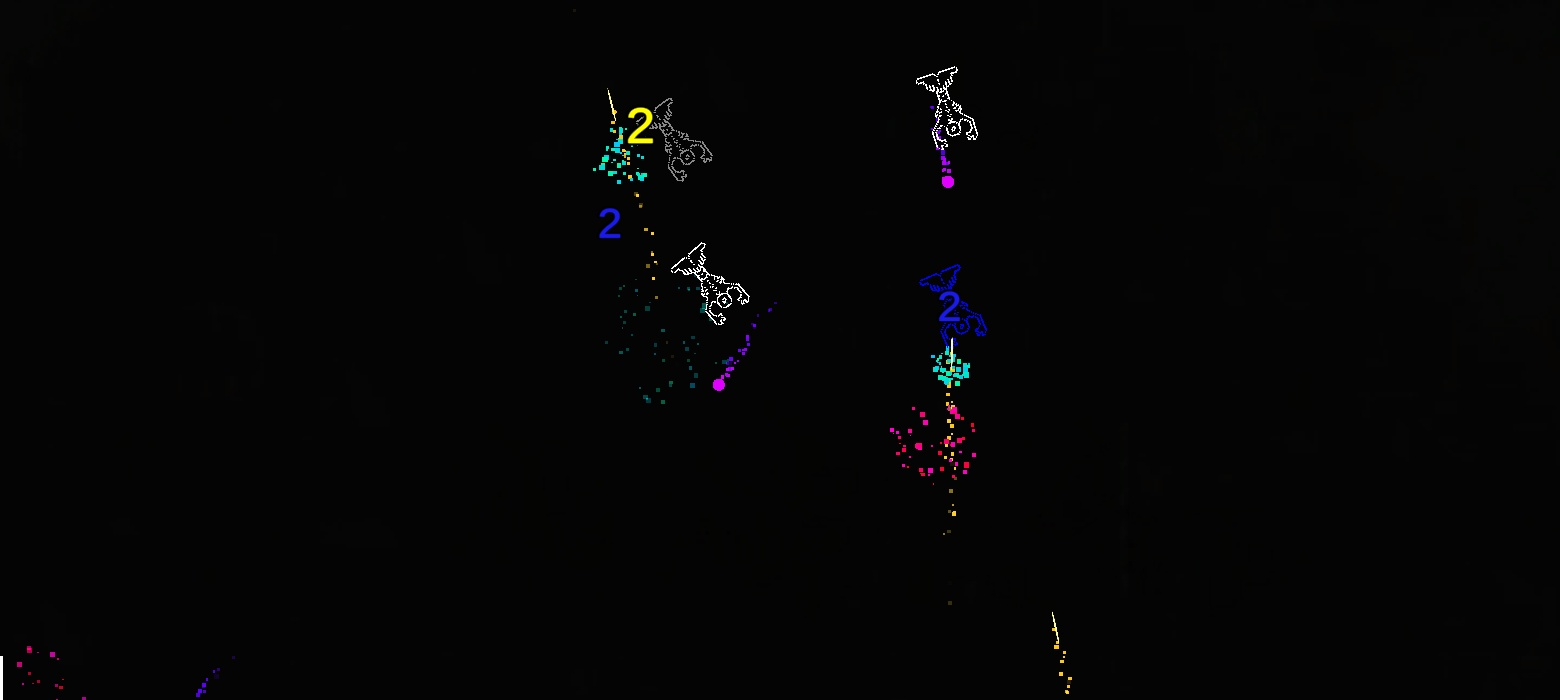enemy: (671, 241, 750, 326), (636, 98, 713, 182), (920, 264, 986, 349), (916, 66, 978, 151)
